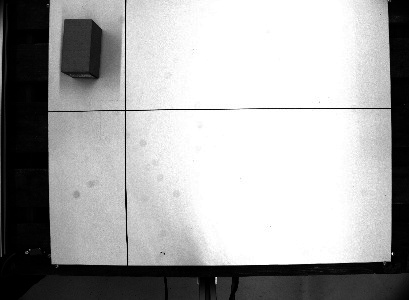b2: (58, 15, 103, 81)
